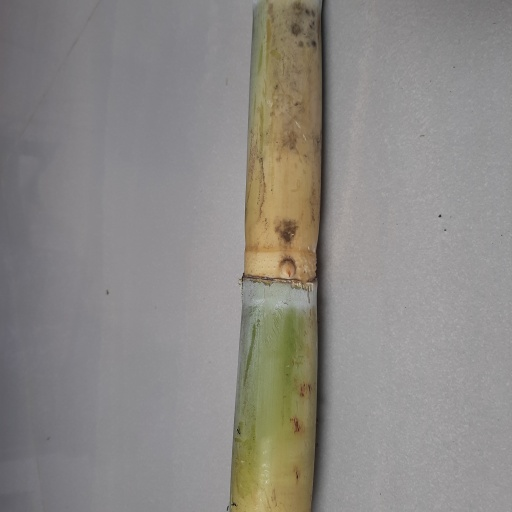Bud: (279, 256, 297, 281)
